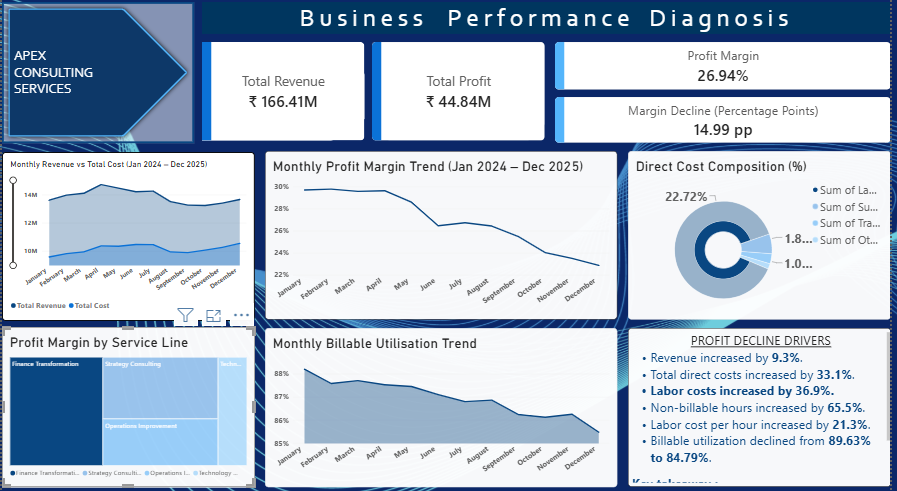

This screenshot's page, from the dashboard's own definition file:
{"tool":"powerbi","page":{"name":"Page 1","canvas":[1920,1080],"ordinal":0},"visuals":[{"type":"cardVisual","title":"Total Revenue","fields":{"Data":["Raw_Data.Total Revenue"]},"box":[432,86.4,373.7,250.6],"z":0},{"type":"cardVisual","title":"Total Profit","fields":{"Data":["Raw_Data.Total Profit"]},"box":[799.2,86.4,395.3,250.6],"z":1000},{"type":"cardVisual","title":"Profit Margin","fields":{"Data":["Raw_Data.Profit Margin"]},"box":[1194.5,86.4,725.8,118.8],"z":2000},{"type":"cardVisual","title":"Margin Decline (Percentage Points)","fields":{"Data":["Raw_Data.Margin Decline (pp)"]},"box":[1194.5,205.2,725.8,114.5],"z":3000},{"type":"lineChart","title":"Monthly Revenue vs Total Cost (Jan 2024 – Dec 2025)","fields":{"Category":["Raw_Data.Month.Variation.Date Hierarchy.Month"],"Y":["Raw_Data.Total Revenue","Raw_Data.Total Cost"]},"box":[0,339.1,546.5,365],"z":4000},{"type":"lineChart","title":"Monthly Profit Margin Trend (Jan 2024 – Dec 2025)","fields":{"Category":["Raw_Data.Month.Variation.Date Hierarchy.Month"],"Y":["Raw_Data.Profit Margin"]},"box":[567.6,338,761.1,363.5],"z":5000},{"type":"treemap","title":"Profit Margin by Service Line","fields":{"Group":["Raw_Data.Service_Line"],"Values":["Raw_Data.Profit Margin"]},"box":[0,716.5,546.4,346.5],"z":6000},{"type":"donutChart","title":"Direct Cost Composition (%)","fields":{"Y":["Sum(Raw_Data.Labor_Cost_INR)","Sum(Raw_Data.Subcontractor_Cost_INR)","Sum(Raw_Data.Travel_Cost_INR)","Sum(Raw_Data.Other_Direct_Cost_INR)"]},"box":[1352.1,338,567.6,363.5],"z":7000},{"type":"stackedAreaChart","title":"Monthly Billable Utilisation Trend","fields":{"Category":["Raw_Data.Month.Variation.Date Hierarchy.Month"],"Y":["Raw_Data.Billable Utilisation"]},"box":[567.6,718.6,761.1,344.4],"z":8000},{"type":"textbox","box":[1352.2,719.3,568.1,343.4],"z":9000},{"type":"actionButton","box":[0,15.1,414.7,304.6],"z":10000},{"type":"textbox","box":[432,15.1,1488.2,69.1],"z":11000}]}

Visuals, with their boxes in screenshot pixels (x1, y1, x2, y2), scaled from the page's 1920x1080 canvas onto the 897x491 screenshot:
"Total Revenue" cardVisual: [left=202, top=39, right=376, bottom=153]
"Total Profit" cardVisual: [left=373, top=39, right=558, bottom=153]
"Profit Margin" cardVisual: [left=558, top=39, right=896, bottom=93]
"Margin Decline (Percentage Points)" cardVisual: [left=558, top=93, right=896, bottom=145]
"Monthly Revenue vs Total Cost (Jan 2024 – Dec 2025)" lineChart: [left=0, top=154, right=255, bottom=320]
"Monthly Profit Margin Trend (Jan 2024 – Dec 2025)" lineChart: [left=265, top=154, right=621, bottom=319]
"Profit Margin by Service Line" treemap: [left=0, top=326, right=255, bottom=483]
"Direct Cost Composition (%)" donutChart: [left=632, top=154, right=896, bottom=319]
"Monthly Billable Utilisation Trend" stackedAreaChart: [left=265, top=327, right=621, bottom=483]
textbox: [left=632, top=327, right=896, bottom=483]
actionButton: [left=0, top=7, right=194, bottom=145]
textbox: [left=202, top=7, right=896, bottom=38]
